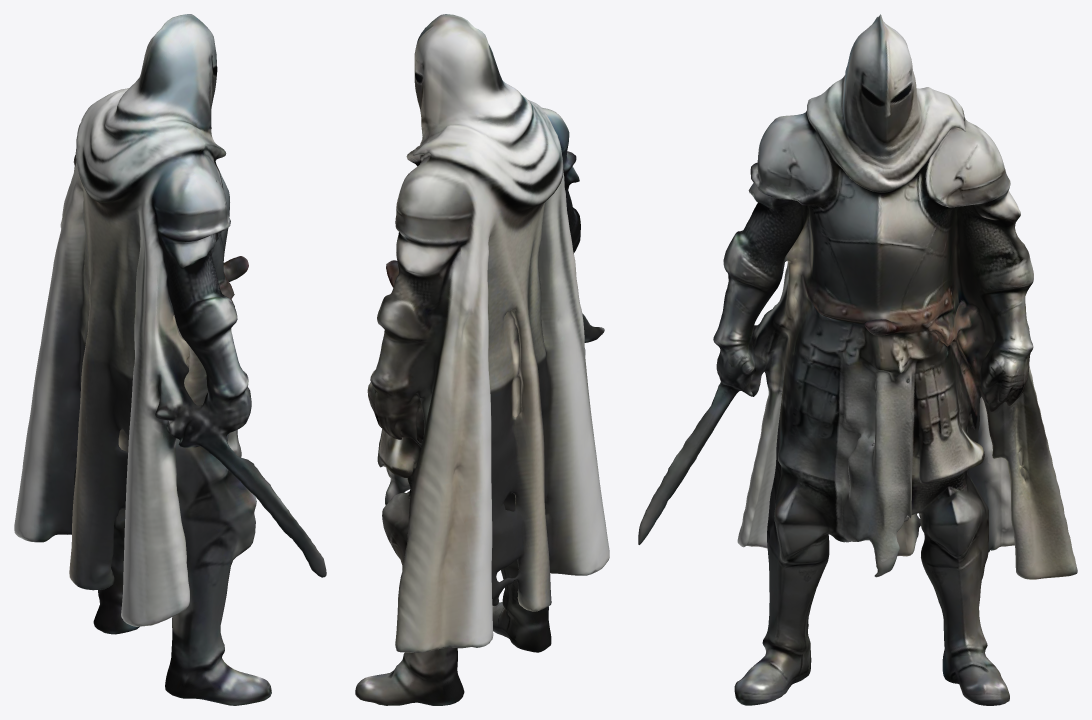
File: knight_with_sword.glb
3 renders of one model, left to right at view 1: azimuth 30°, elevation 25°; view 2: azimuth 150°, elevation 25°; view 3: azimuth 270°, elevation 25°, orthographic. The views are drawn at different scales.
Visible parts, largest first — view 1: tripo_node_c03c88ae-172d-4ee5-b76a-5c0a1ad1e1b8; view 2: tripo_node_c03c88ae-172d-4ee5-b76a-5c0a1ad1e1b8; view 3: tripo_node_c03c88ae-172d-4ee5-b76a-5c0a1ad1e1b8.
Part boxes in pixels (x1,y1,x2,y2): tripo_node_c03c88ae-172d-4ee5-b76a-5c0a1ad1e1b8: (14, 14, 326, 705); tripo_node_c03c88ae-172d-4ee5-b76a-5c0a1ad1e1b8: (355, 14, 609, 705); tripo_node_c03c88ae-172d-4ee5-b76a-5c0a1ad1e1b8: (638, 14, 1077, 705).
Size of the model in its own units: 0.2291 by 0.8494 by 0.5015.
Materials: 1 (1 with a texture image).
